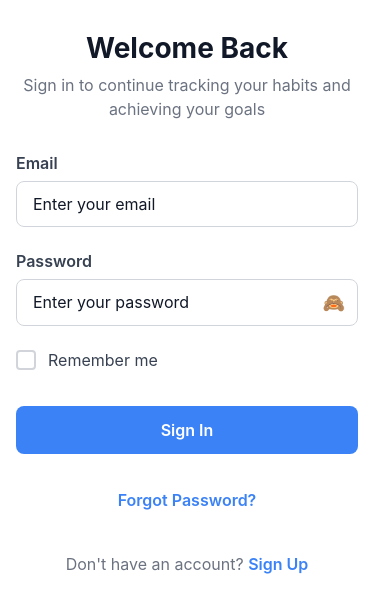
Scenario: LoginScreen › Form Validation › should display validation errors for empty fields
This screenshot has width=375, height=612.
// Try to submit without filling fields
Click the element with test id "signin-button": [187, 430] box 16,406 -> 358,454
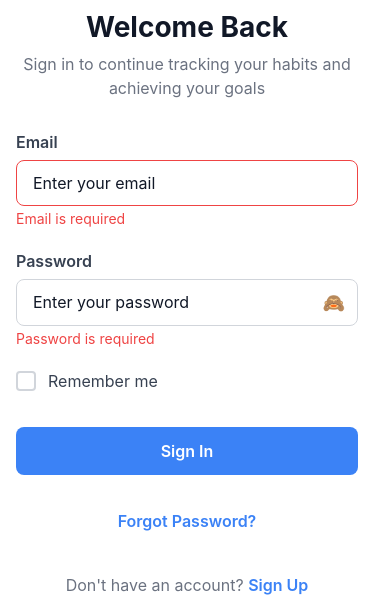
Check: the text "Email is required" is shown, box 16,210 -> 125,226
Check: the text "Password is required" is shown, box 16,330 -> 155,346
